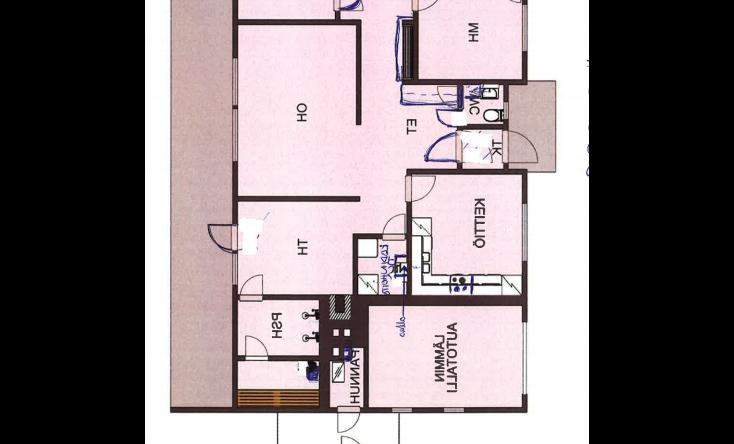bathroom: (460, 82, 506, 128)
door: (502, 128, 539, 165), (423, 130, 463, 164), (402, 174, 438, 204), (206, 220, 238, 251), (237, 271, 266, 302), (242, 333, 269, 364), (381, 210, 407, 242), (336, 402, 361, 432), (433, 106, 462, 127), (334, 0, 367, 14), (412, 0, 446, 13), (338, 433, 368, 444)
perimeter: (232, 0, 528, 412)
window: (518, 197, 532, 265), (230, 103, 243, 166), (519, 318, 529, 398), (230, 52, 244, 108), (518, 1, 532, 55), (228, 250, 241, 289), (438, 404, 468, 416), (389, 403, 415, 415), (502, 97, 512, 123)
